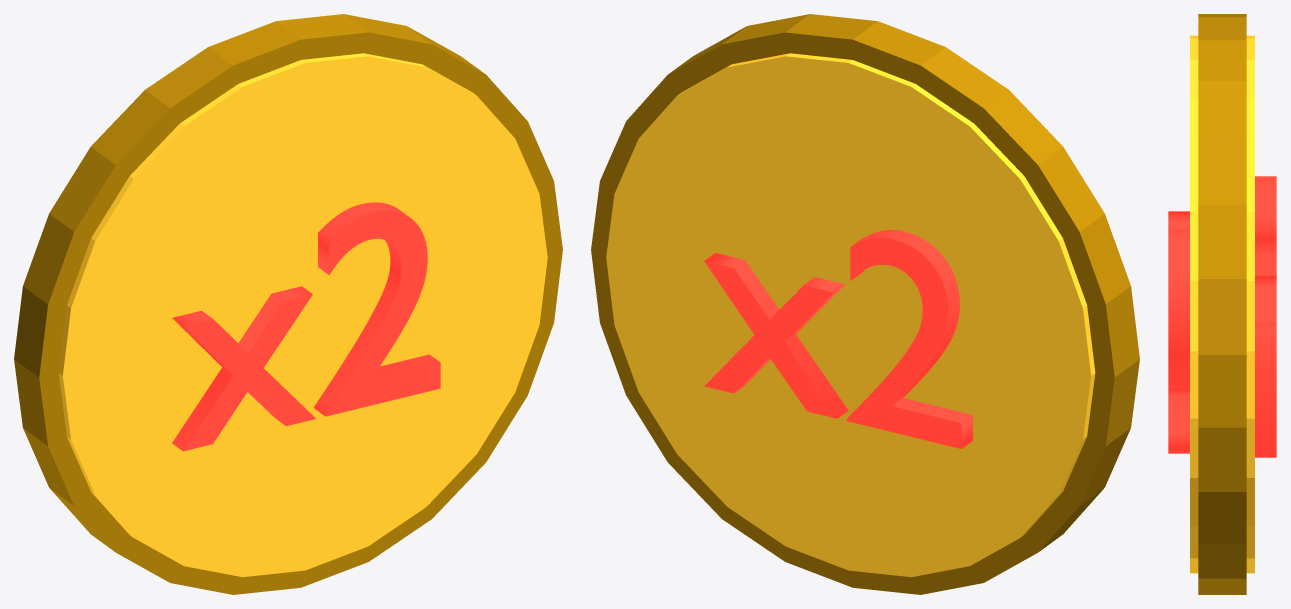
The model's file is powerup_double.glb.
3 renders of one model, left to right at view 1: azimuth 30°, elevation 25°; view 2: azimuth 150°, elevation 25°; view 3: azimuth 270°, elevation 25°, orthographic. The views are drawn at different scales.
Parts seen in each view (by area): view 1: Coin, LabelF; view 2: Coin, LabelB; view 3: Coin, LabelB, LabelF.
Boxes of the visible parts, box(x1,y1,x2,y2) form: Coin: box(14, 14, 562, 594); LabelF: box(172, 202, 440, 451); Coin: box(591, 14, 1139, 594); LabelB: box(704, 230, 972, 448); Coin: box(1190, 14, 1254, 594); LabelB: box(1255, 176, 1276, 457); LabelF: box(1168, 211, 1189, 453).
Bounding box in the file's own units: 1.08 × 1.08 × 0.2.
